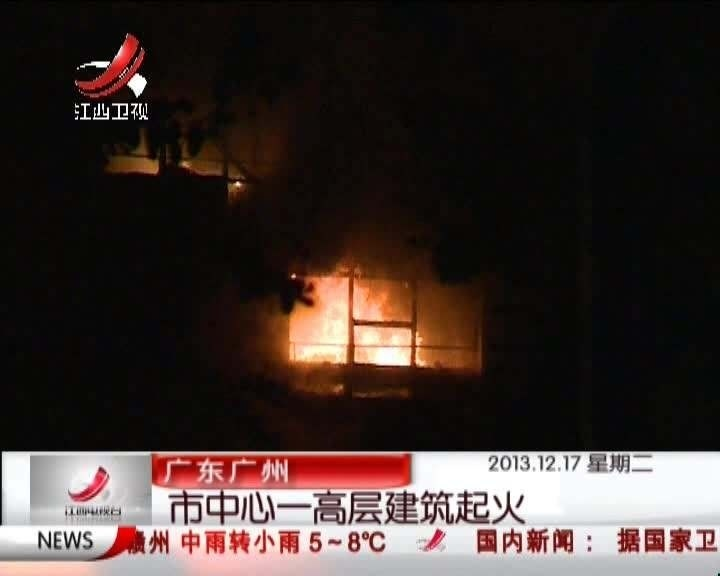fire: (288, 267, 425, 369)
